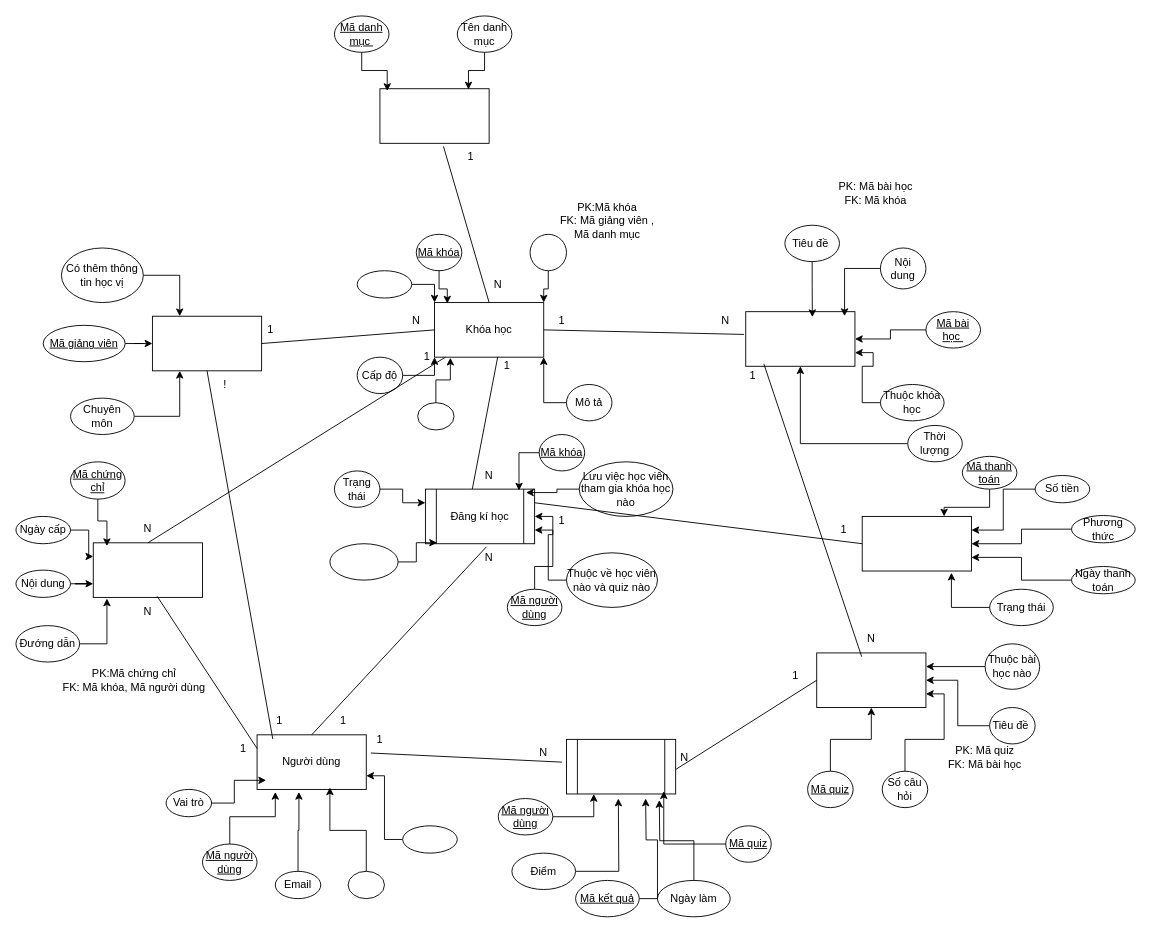
Some shapes in this 1151 by 933 pixel diagram are drawn without their labels. The shapes that lost their labels are listed below. From the top down, each one's centre as x and y in pixels, then its label:
At (434,115): "Danh mục khóa học".
At (547,252): "Tên".
At (384,284): "Ngày phát hành".
At (207,343): "Giảng viên".
At (800,338): "Bài học".
At (435,416): "Giá".
At (363,561): "Ngày đăng kí".
At (916,543): "Thanh toán".
At (147,569): "Chứng chỉ".
At (871,680): "Bài kiểm tra".
At (621,766): "Kết quả".
At (429,839): "Mật khẩu".
At (365,884): "Họ tên".
